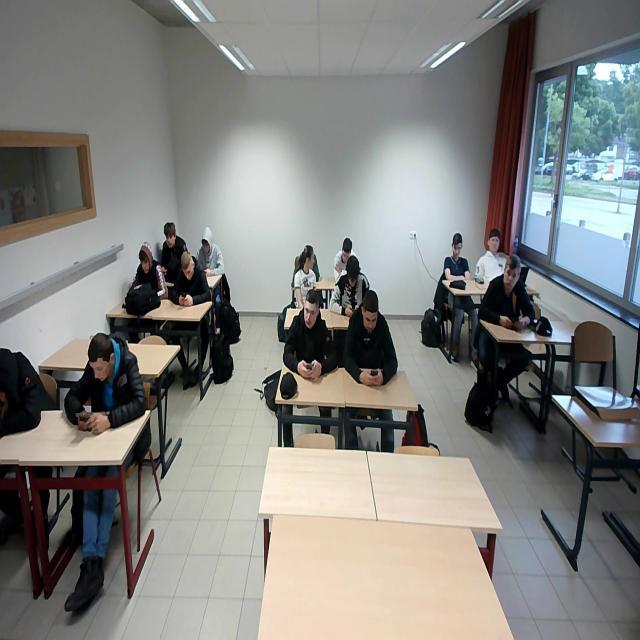Looking away: (296, 240, 322, 278), (133, 247, 152, 275), (448, 228, 465, 257)
Looking forward: (487, 226, 508, 254), (502, 255, 518, 291)
Phone use: (57, 334, 154, 434), (347, 292, 396, 387), (286, 288, 335, 380), (330, 248, 368, 316), (150, 226, 189, 280), (173, 250, 208, 309), (190, 220, 224, 280)
